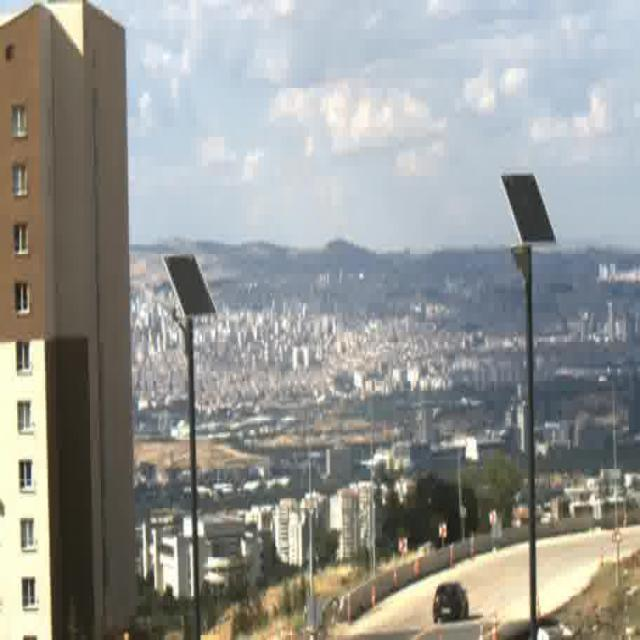Car: (432, 585, 470, 623)
